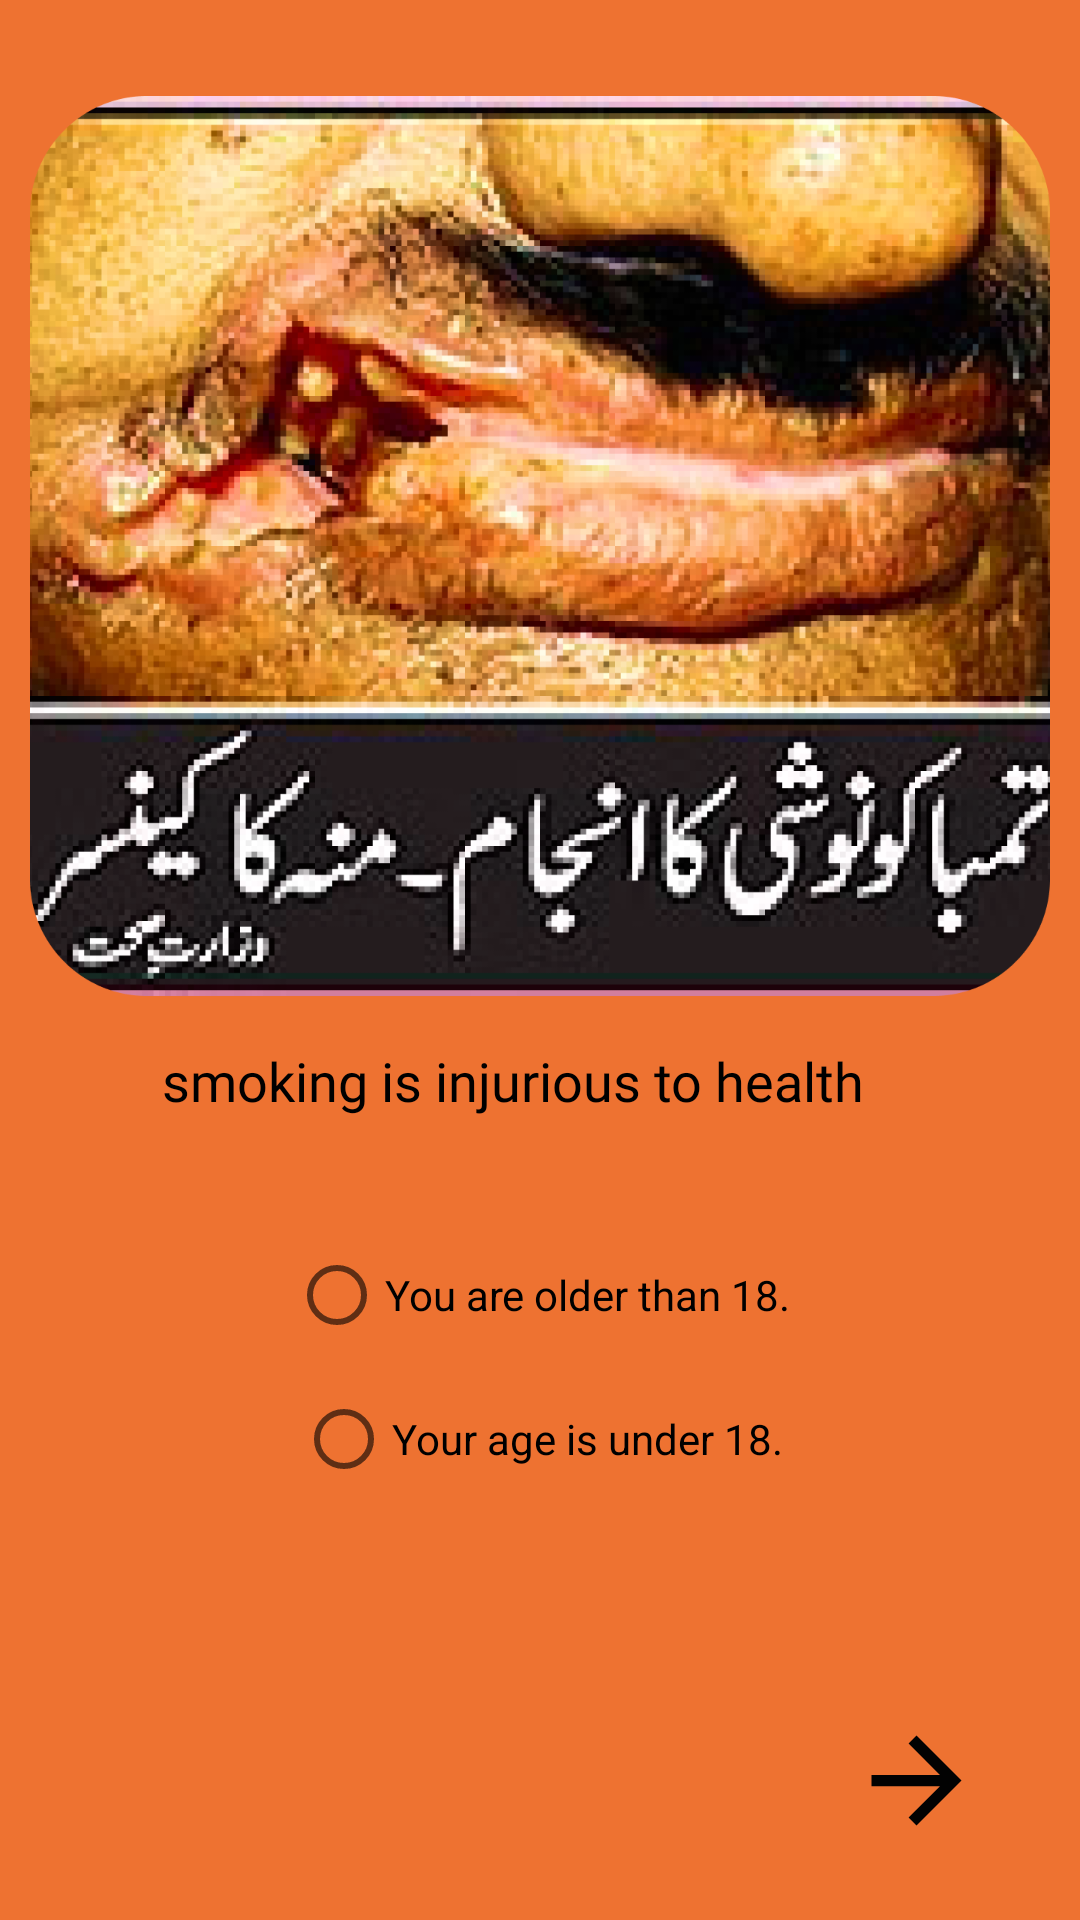

Named icons in this screenshot (1080px x 1920px) and their centers, [x,y]:
arrow forward: [916,1780]
